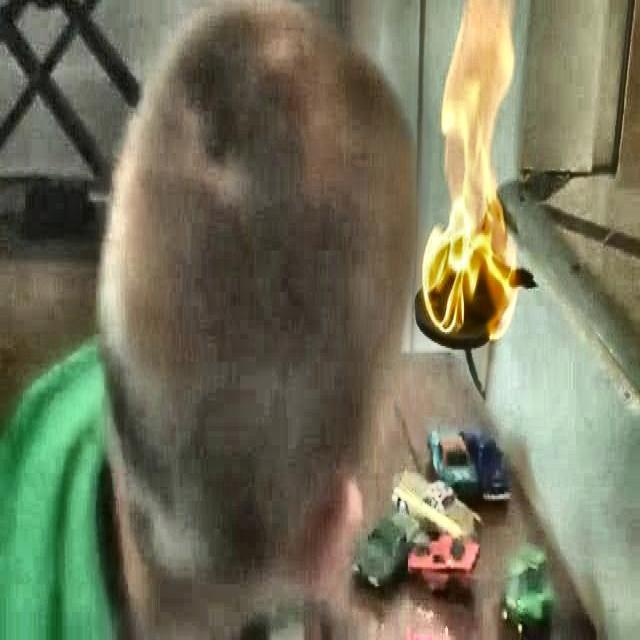fire: (420, 0, 545, 350)
